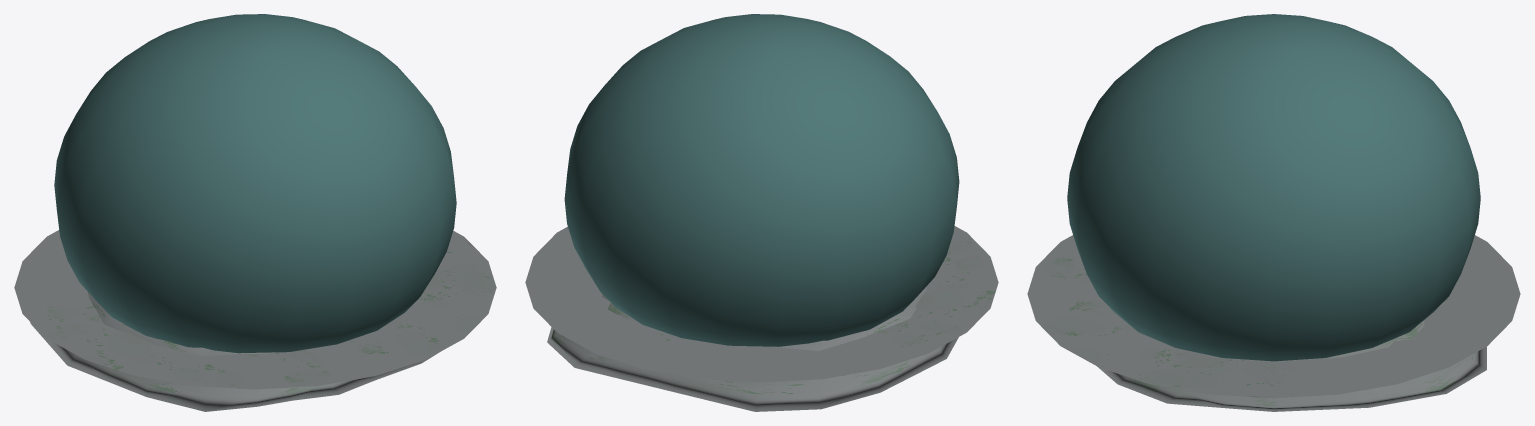
The model's file is WaterDome 1.fbx.
The picture shows the model from 3 angles, left to right: view 1: azimuth 30°, elevation 25°; view 2: azimuth 150°, elevation 25°; view 3: azimuth 270°, elevation 25°; orthographic projection. The views are drawn at different scales.
Visible parts, largest first — view 1: pSphere1, polySurface6, pCube1; view 2: pSphere1, polySurface6, pCube1; view 3: pSphere1, polySurface6, pCube1.
Part boxes in pixels (x1=…): pSphere1: x1=54, y1=14, x2=456, y2=353; polySurface6: x1=14, y1=230, x2=496, y2=389; pCube1: x1=30, y1=291, x2=437, y2=411; pSphere1: x1=564, y1=14, x2=959, y2=346; polySurface6: x1=525, y1=226, x2=998, y2=382; pCube1: x1=547, y1=287, x2=958, y2=411; pSphere1: x1=1067, y1=14, x2=1480, y2=361; polySurface6: x1=1027, y1=235, x2=1520, y2=398; pCube1: x1=1097, y1=320, x2=1486, y2=411.
Size of the model in its own units: 1229 by 799 by 1229.
Materials: 2 (1 with a texture image).
